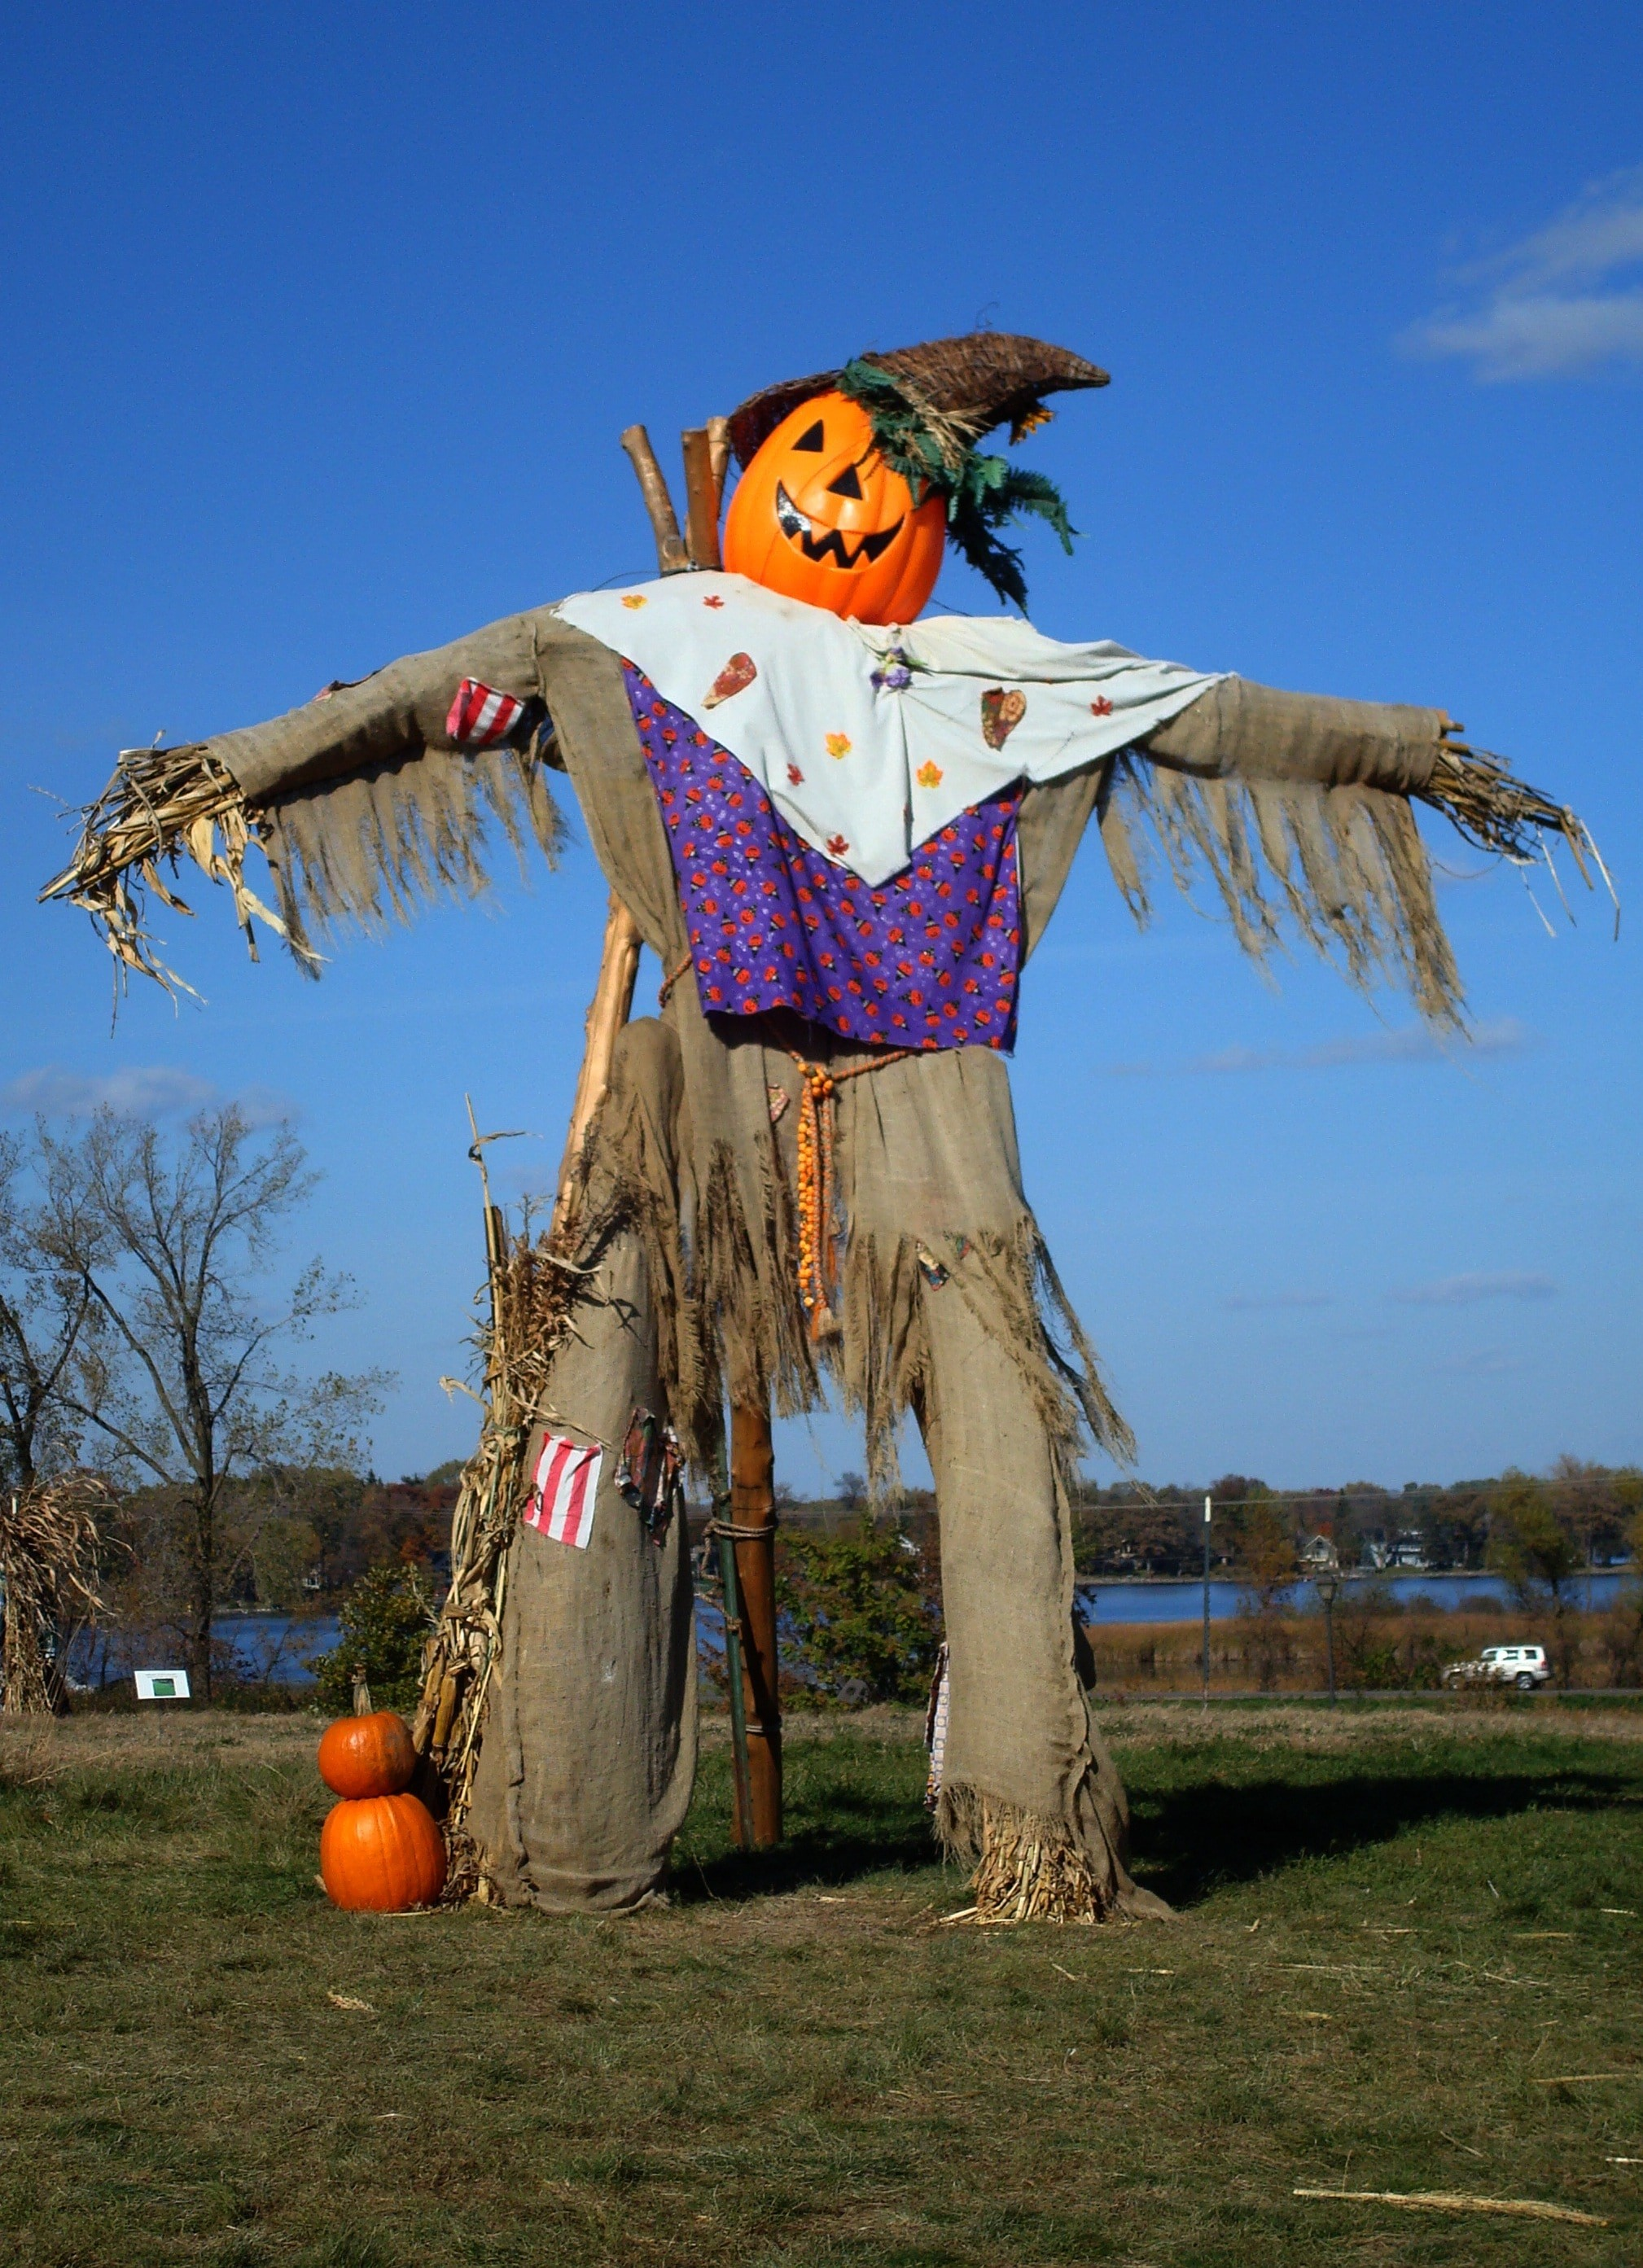person-like: (42, 311, 1618, 1959)
